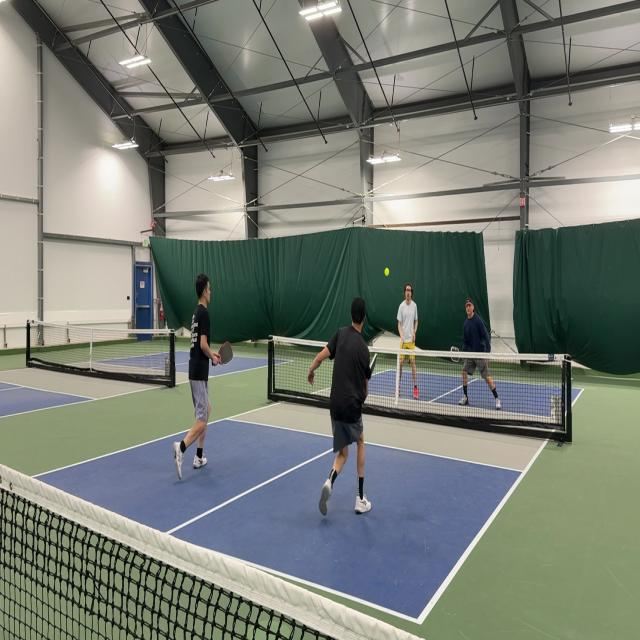ball: (384, 266, 390, 278)
